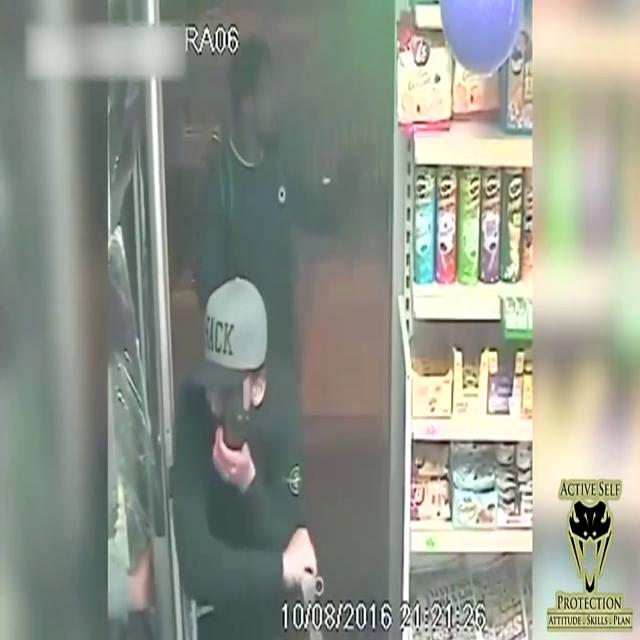Knife_Handle: (284, 527, 322, 640)
